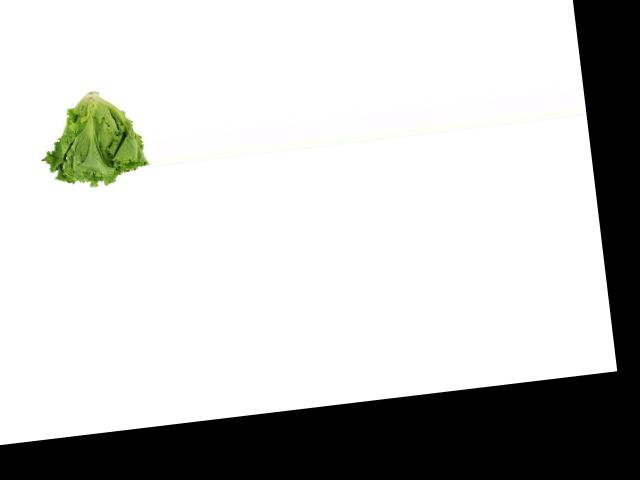lettuce: (39, 83, 152, 196)
